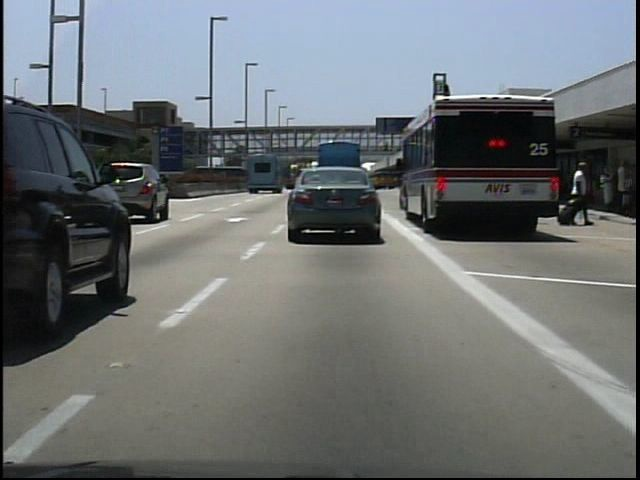person: (566, 156, 594, 230), (381, 137, 394, 157)
